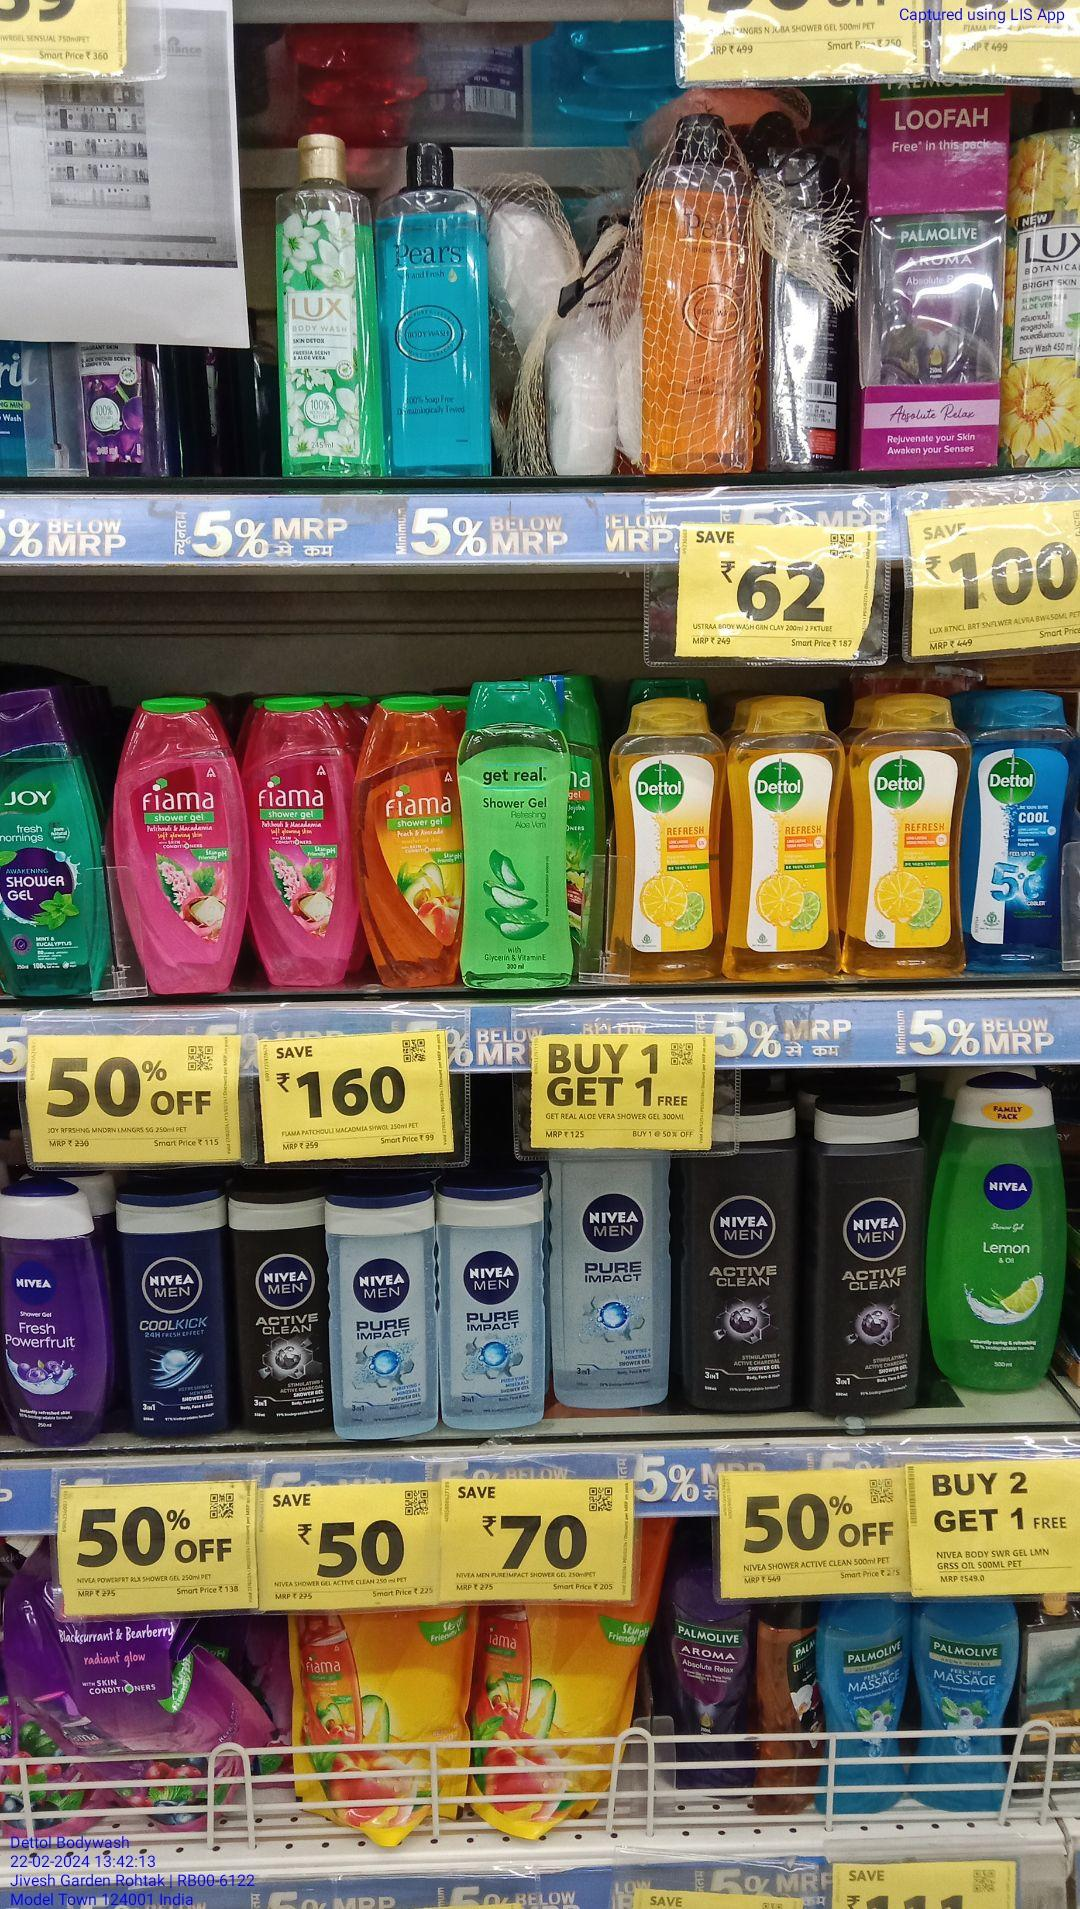Dettol_Bodywash_Cool: (969, 690, 1062, 975)
Dettol_Bodywash_Refresh: (844, 691, 965, 977), (731, 699, 843, 977), (612, 703, 722, 981)
Fiama_Shower_Gel_Patchouli_and_Macadamia_250ML: (115, 694, 245, 995), (252, 688, 354, 987)
Fiama_Shower_Gel_Peach_and_Avocado_250ML: (359, 680, 457, 986)
Joy_Shower_Gel_Mint_and_Eucalyptus_250ML: (0, 692, 106, 996)
Lux_Body_Wash_Skin_Detox_Freesia_Scent_and_Alove_Vera_245ML: (274, 117, 384, 481)
Nivea_Shower_Gel_Fresh_Powerfruit_250ML: (0, 1192, 110, 1445)
Nivea_Shower_Gel_Lemon_and_Oil_250ML: (929, 1070, 1067, 1392)
Palmolive_Aroma_Moments_Feel_The_Massage_Shower_Gel_250ML: (914, 1590, 1012, 1817), (815, 1592, 910, 1817)
Palmolive_Aroma_Relax_250ML: (670, 1580, 752, 1792)
Pears_Pure_Glycerin_and_Mint_Extracts_Body_Wash_250ML: (392, 142, 490, 514)
